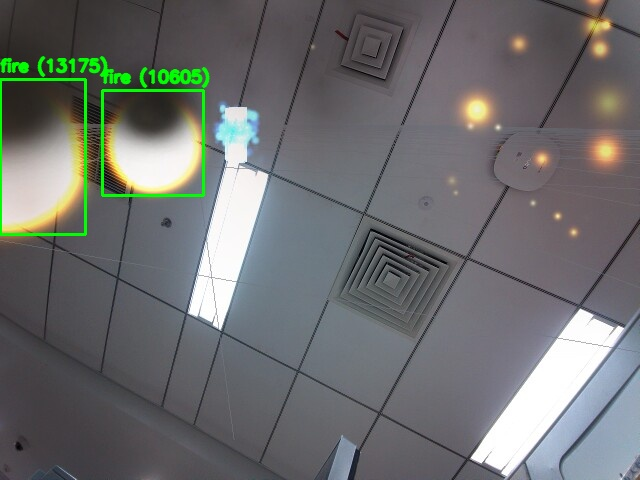fire: (0, 79, 85, 234), (102, 90, 203, 195)
